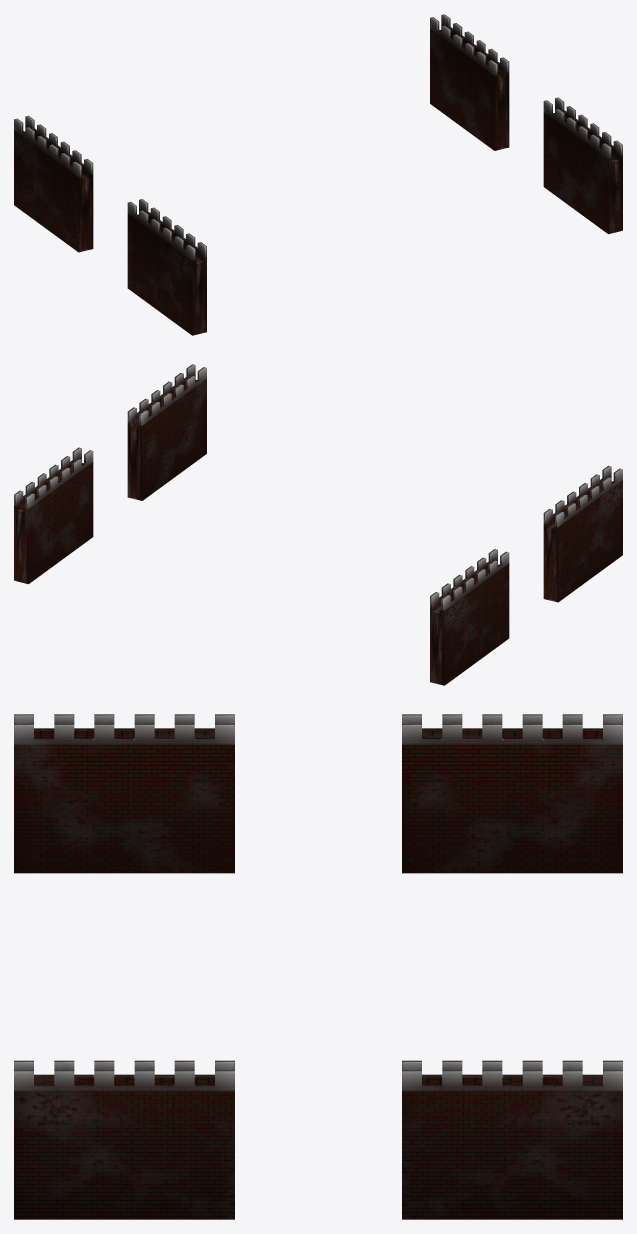
The model's file is SantaCastleWallFront.fbx.
3 renders of one model, top to bottom at view 1: azimuth 30°, elevation 25°; view 2: azimuth 150°, elevation 25°; view 3: azimuth 270°, elevation 25°, orthographic. The views are drawn at different scales.
Parts seen in each view (by area): view 1: Cube.009; view 2: Cube.009; view 3: Cube.009.
Part boxes in pixels (x1=…): Cube.009: x1=14, y1=14, x2=622, y2=335; Cube.009: x1=14, y1=364, x2=622, y2=685; Cube.009: x1=14, y1=714, x2=622, y2=1219.
Bounding box in the file's own units: 10812 × 2061 × 7757.
1 material, 1 textured.
